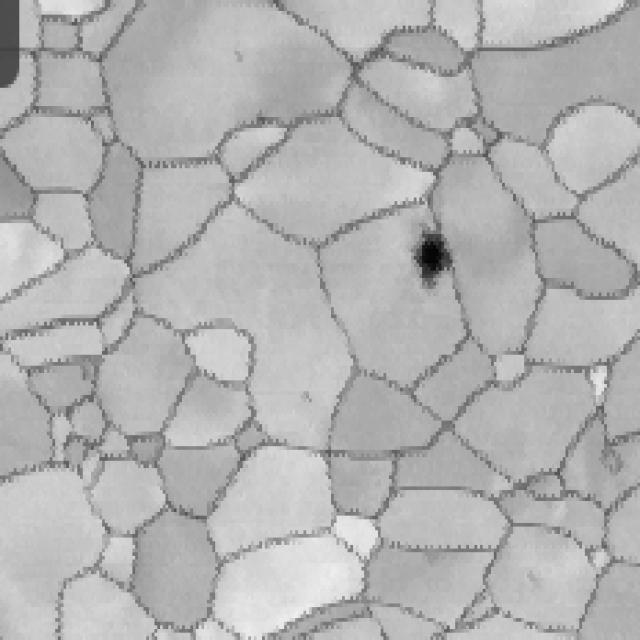good_void: (407, 211, 464, 294), (593, 437, 631, 478), (294, 383, 319, 412), (229, 42, 251, 70), (78, 360, 96, 387)
